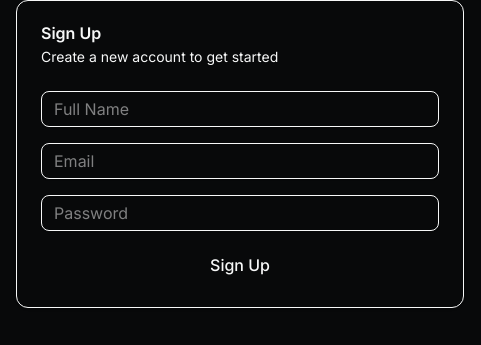
Scenario: SignUp › shows a success state after sign up
This screenshot has width=481, height=345.
Type "Jane Admin" into the field with placeholder "Full Name". click: (240, 109)
box: x1=41 y1=91 x2=439 y2=127
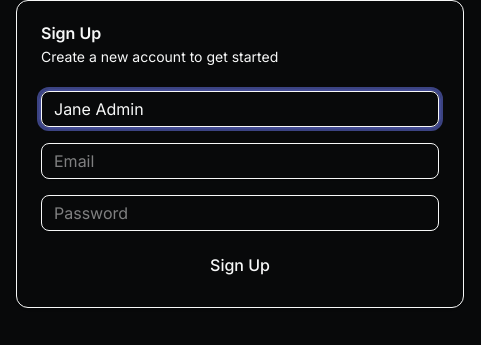
Type "admin@example.com" into the field with placeholder "Email". click: (240, 161)
box: x1=41 y1=143 x2=439 y2=179
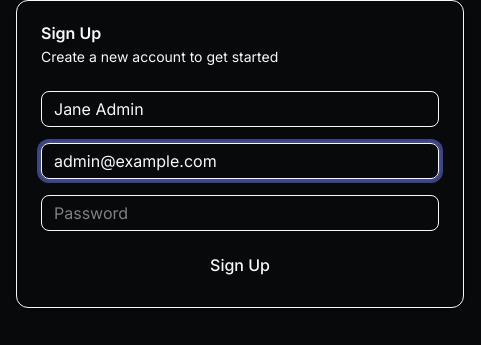
Type "Password123!" into the password field with placeholder "Password". click: (240, 213)
box: x1=41 y1=195 x2=439 y2=231
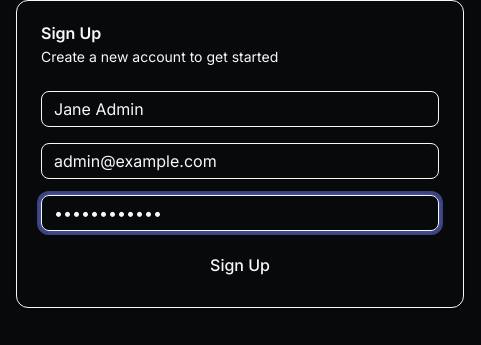
Click the button "Sign Up". click: (240, 265)
box: x1=41 y1=247 x2=439 y2=283
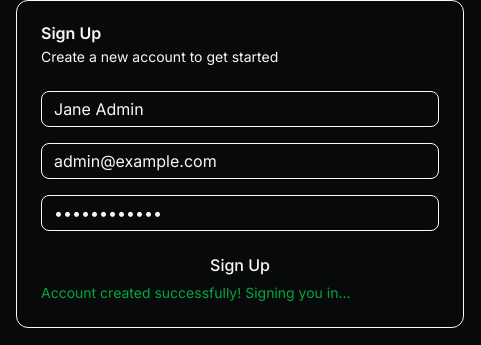
Expected: the text "Account created successfully! Signing you in..." is shown, x1=41 y1=284 x2=351 y2=301
